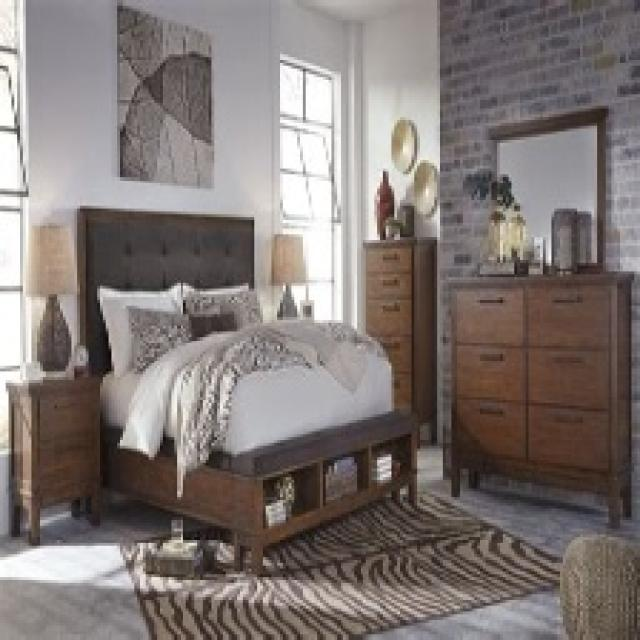Bed: (74, 203, 420, 574)
